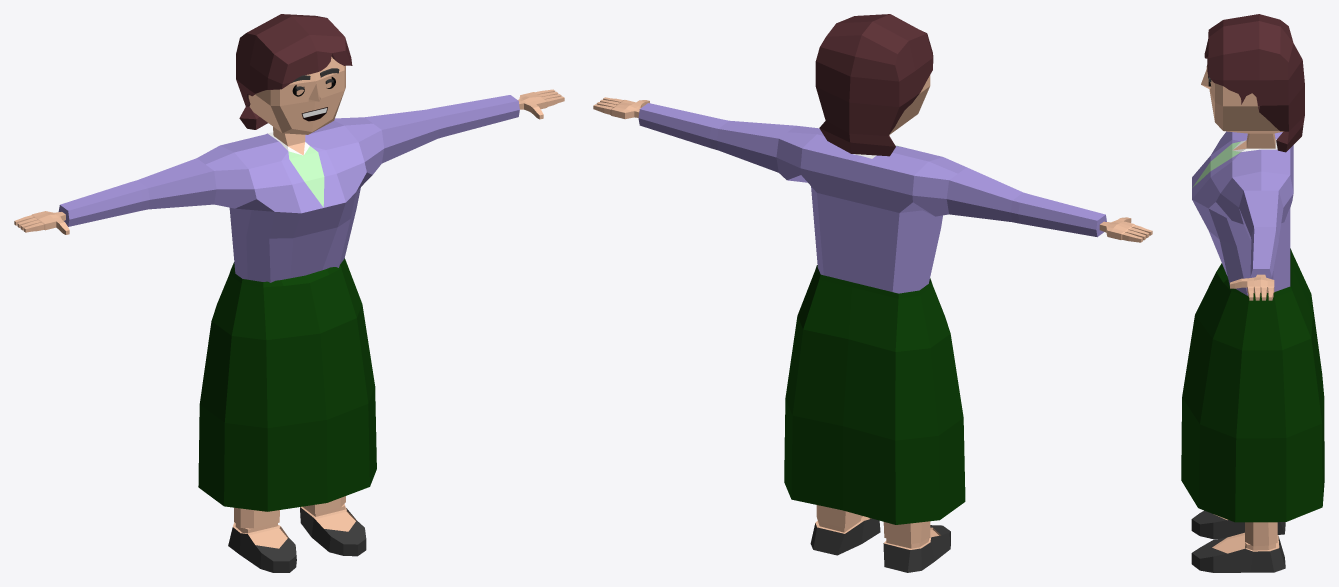
The model's file is Teacher.glb.
3 views of the same model, side by side, from view 1: azimuth 30°, elevation 25°; view 2: azimuth 150°, elevation 25°; view 3: azimuth 270°, elevation 25° (orthographic).
Parts seen in each view (by area): view 1: smile.009; view 2: smile.009; view 3: smile.009.
Part boxes in pixels (x1=…): smile.009: x1=14, y1=14, x2=564, y2=572; smile.009: x1=593, y1=14, x2=1152, y2=572; smile.009: x1=1181, y1=14, x2=1324, y2=572.
Size of the model in its own units: 5.91 by 5.49 by 1.35.
Materials: 10 (1 with a texture image).
